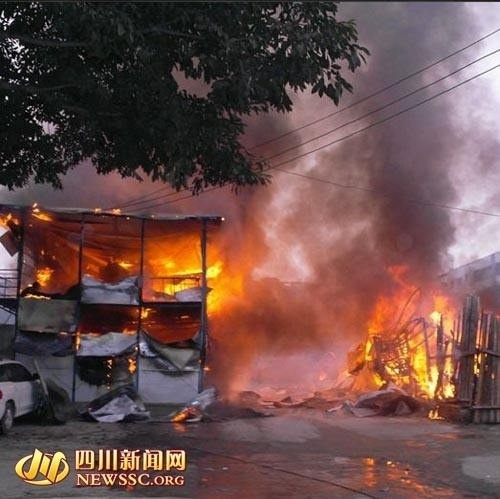fire: (13, 200, 243, 324), (344, 270, 496, 406)
